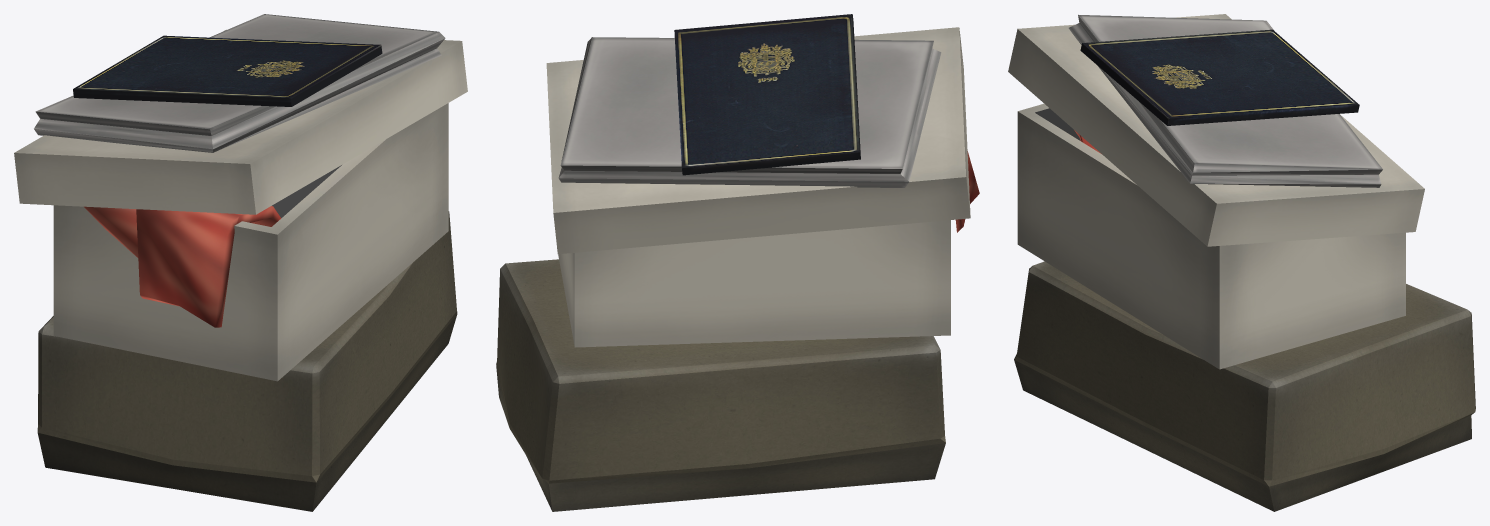
Rendered from Pile_of_Boxes.FBX.
3 renders of one model, left to right at view 1: azimuth 30°, elevation 25°; view 2: azimuth 150°, elevation 25°; view 3: azimuth 270°, elevation 25°, orthographic. The views are drawn at different scales.
Parts seen in each view (by area): view 1: Box107; view 2: Box107; view 3: Box107.
Boxes of the visible parts, <box> form: Box107: <box>14,14,467,511</box>; Box107: <box>496,14,979,511</box>; Box107: <box>1008,14,1475,511</box>.
Size of the model in its own units: 123 by 97.57 by 118.
1 material, 1 textured.
